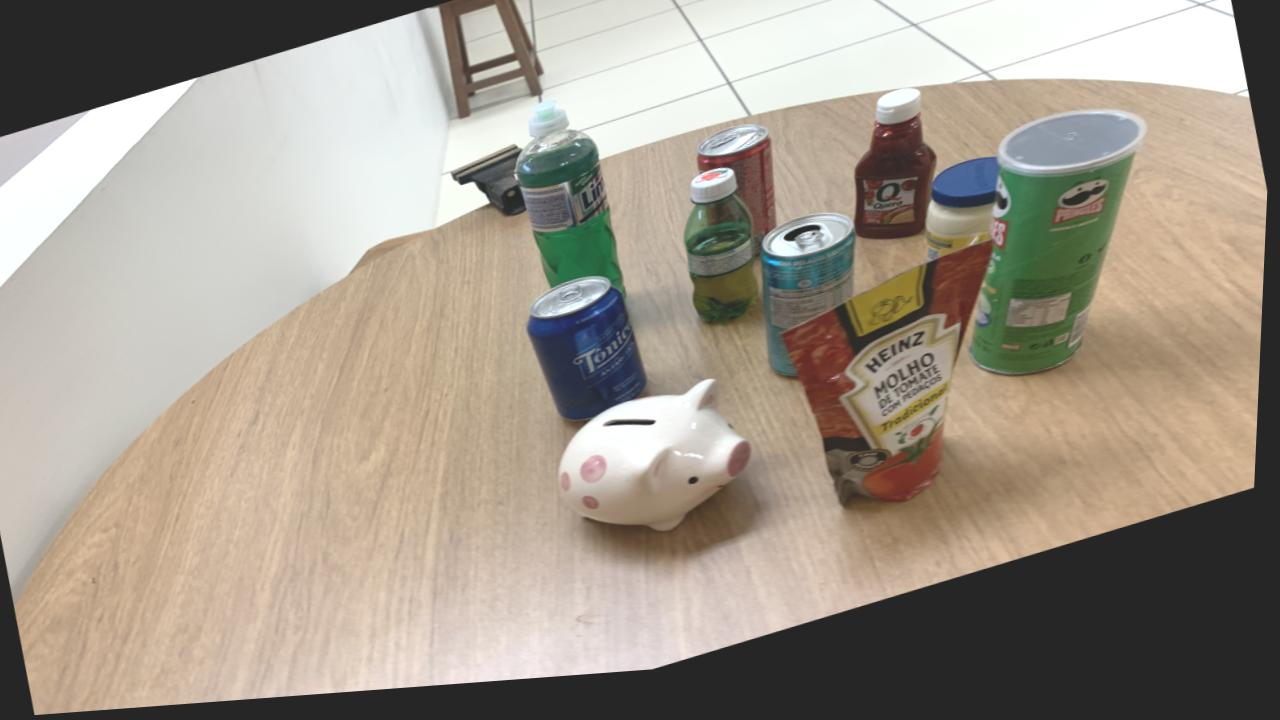Coke-Drinks: (698, 136, 779, 264)
Detergent-Cleanup_Items: (516, 109, 629, 304)
Guarana-Drinks: (685, 179, 761, 333)
Ketchup-Pantry_Items: (856, 102, 939, 253)
Mayonnaise-Pantry_Items: (927, 171, 1002, 275)
Pig_Safe-Miscellaneous: (563, 390, 757, 542)
Pringles-Snacks: (1055, 195, 1112, 241)
Tea-Drinks: (762, 225, 858, 388)
Tomato_Sauce-Pantry_Items: (786, 257, 993, 516)
Tonic-Drinks: (529, 285, 651, 429)
